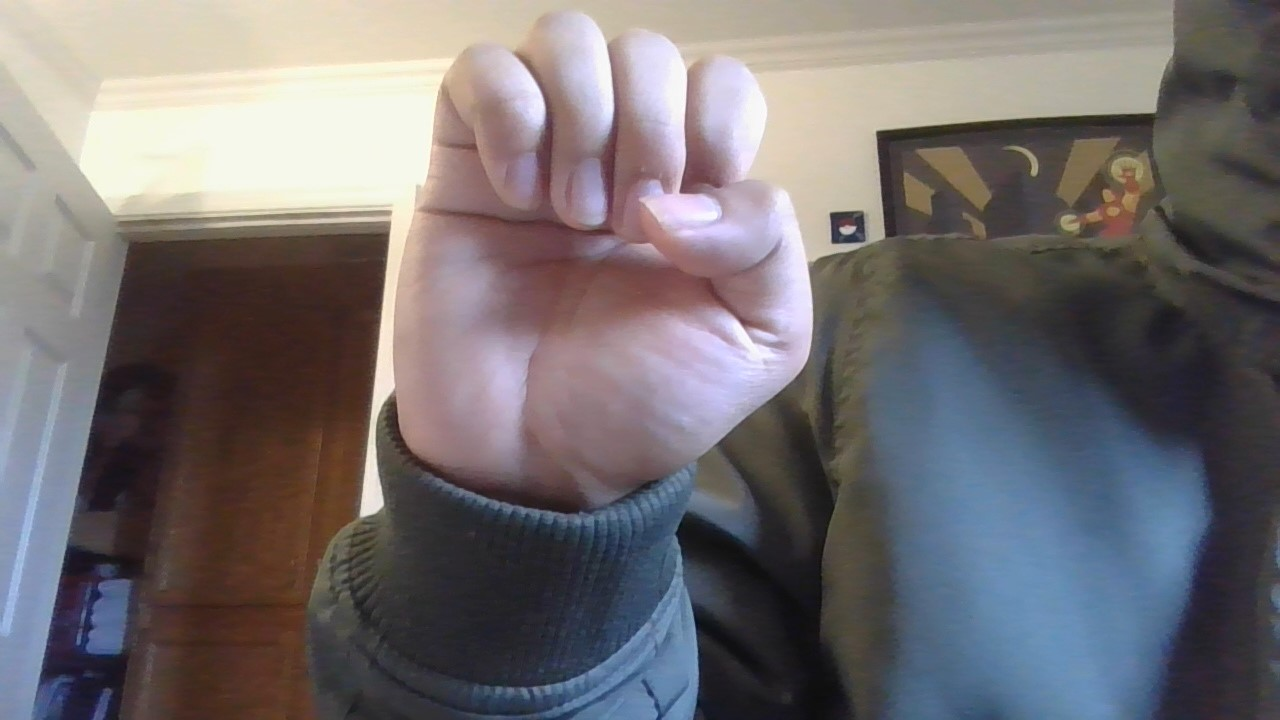e: (319, 8, 852, 518)
